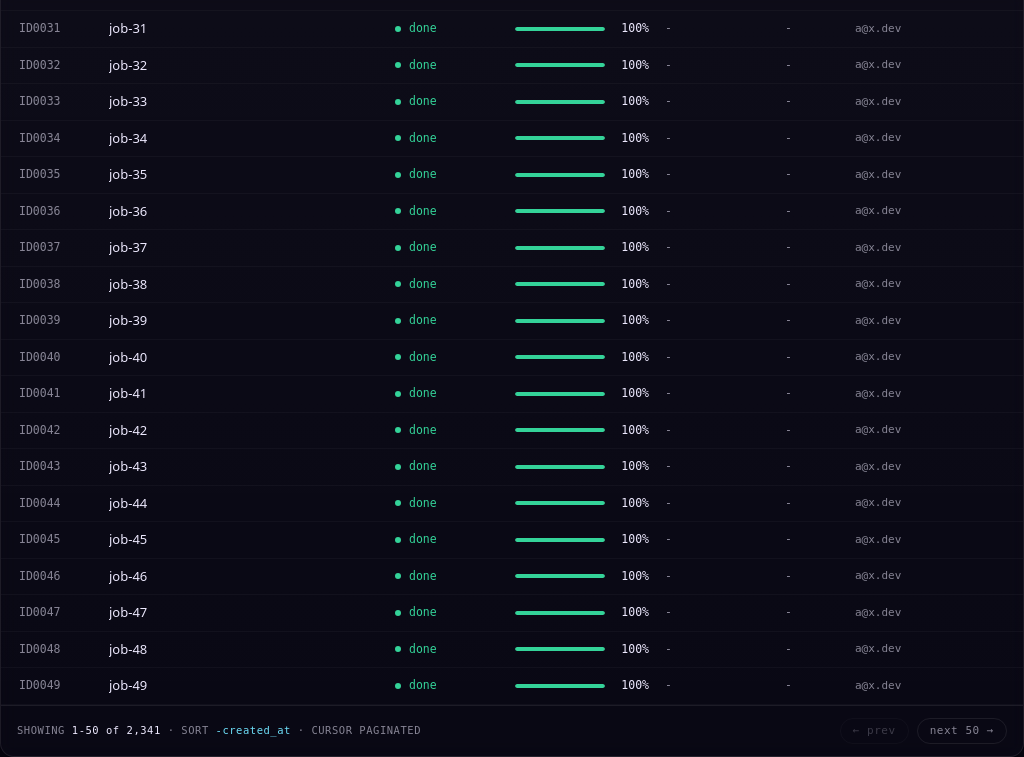
pagination footer updates to next range after paging forward
The width and height of the screenshot is (1024, 757).
(page scrolled)
Expected: the text "1-50 of 2,341" is shown, [72,724,161,736]
Click the button "next 50 →" at point(962, 731), box [917,718,1007,744]
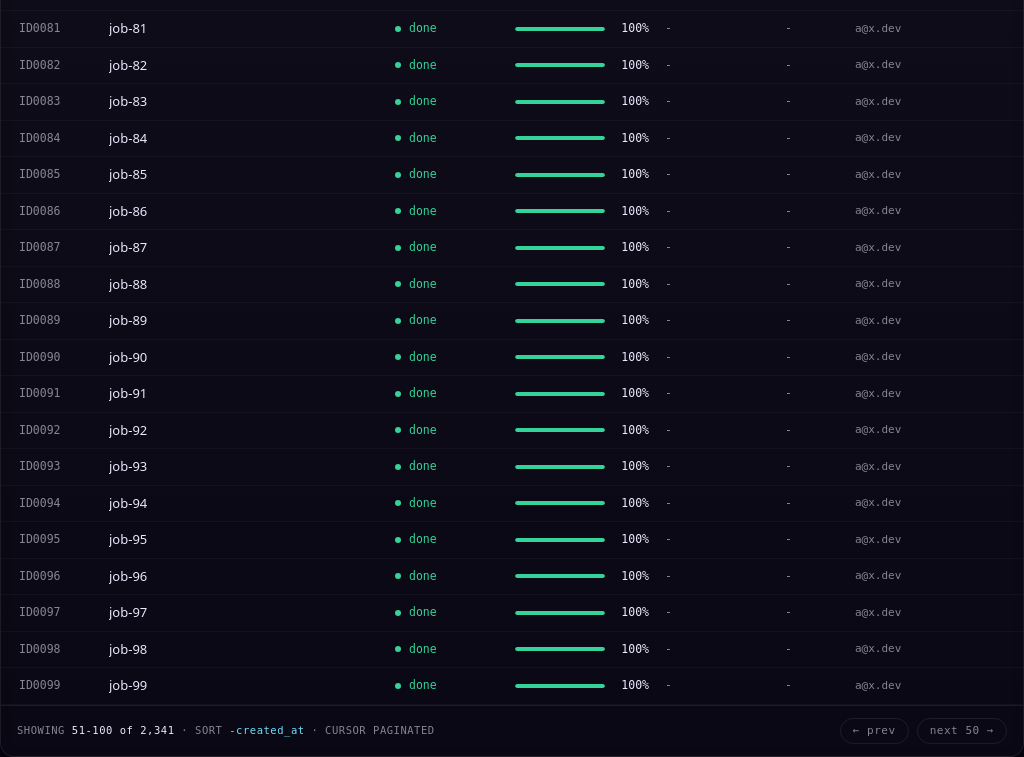
Result: the text "51-100 of 2,341" is shown at [72,724,174,736]
